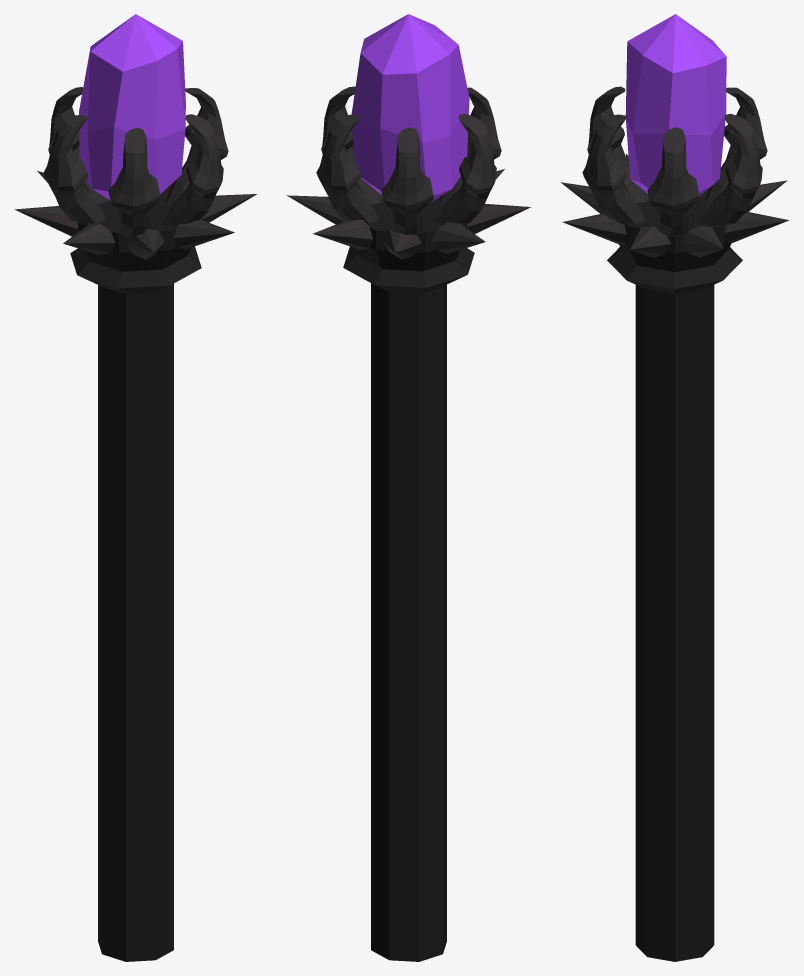
Rendered from Bastón Texturizado.fbx.
3 renders of one model, left to right at view 1: azimuth 30°, elevation 25°; view 2: azimuth 150°, elevation 25°; view 3: azimuth 270°, elevation 25°, orthographic.
Parts seen in each view (by area): view 1: Bastón, Cylinder.002, Cylinder.004, Cube.001; view 2: Bastón, Cylinder.002, Cylinder.004, Cube.001; view 3: Bastón, Cylinder.002, Cylinder.004, Cube.001.
Part boxes in pixels (<box>): Bastón: <box>70,185,201,961</box>; Cylinder.002: <box>79,14,185,200</box>; Cylinder.004: <box>43,87,228,237</box>; Cube.001: <box>14,171,256,259</box>; Bastón: <box>343,197,474,961</box>; Cylinder.002: <box>351,14,469,203</box>; Cylinder.004: <box>316,86,501,235</box>; Cube.001: <box>287,169,530,259</box>; Bastón: <box>607,188,742,961</box>; Cylinder.002: <box>625,14,726,195</box>; Cylinder.004: <box>582,86,767,236</box>; Cube.001: <box>561,154,788,257</box>.
Bounding box in the file's own units: 0.6768 × 3.03 × 0.6768.
